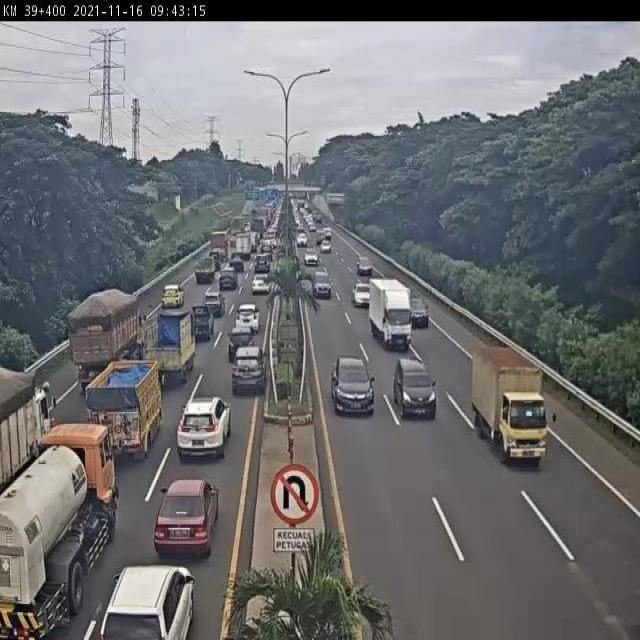car: (102, 565, 193, 640), (155, 480, 218, 557), (175, 398, 232, 466), (324, 353, 373, 415), (394, 351, 436, 418), (230, 346, 265, 398), (186, 306, 213, 342), (228, 323, 254, 357), (408, 296, 434, 324), (237, 304, 260, 331), (196, 256, 218, 284), (311, 268, 332, 297), (159, 284, 183, 309), (352, 279, 371, 309), (201, 295, 222, 321), (216, 272, 236, 293), (250, 275, 269, 297)
small truck: (468, 347, 548, 462), (88, 363, 162, 461), (138, 312, 192, 389), (369, 279, 414, 349)
truck-m-: (1, 422, 119, 638), (70, 290, 148, 394), (0, 371, 47, 496)
